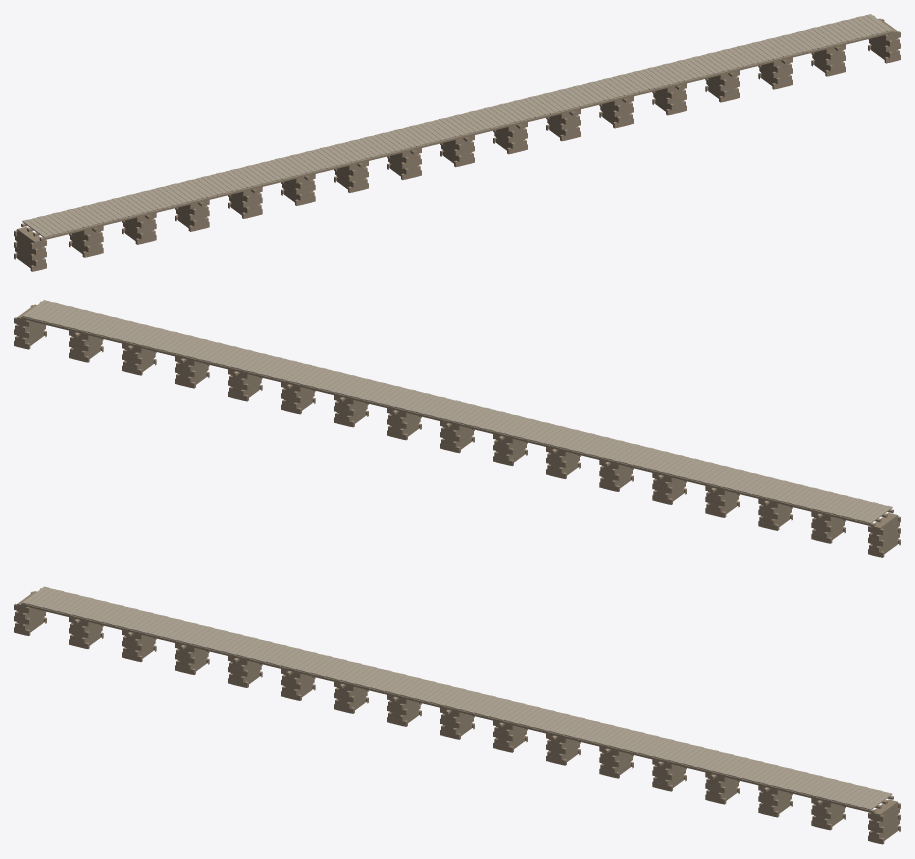
Rendered from north_branch_bridge__log_1832.glb.
3 renders of one model, top to bottom at view 1: azimuth 30°, elevation 25°; view 2: azimuth 150°, elevation 25°; view 3: azimuth 330°, elevation 25°, orthographic.
Visible parts, largest first — view 1: north_branch_bridge__log_1832; view 2: north_branch_bridge__log_1832; view 3: north_branch_bridge__log_1832.
Part boxes in pixels (x1,y1,x2,y2): north_branch_bridge__log_1832: [14, 14, 900, 271]; north_branch_bridge__log_1832: [14, 300, 900, 557]; north_branch_bridge__log_1832: [14, 586, 900, 844].
Size of the model in its own units: 73.55 by 2.77 by 3.25.
